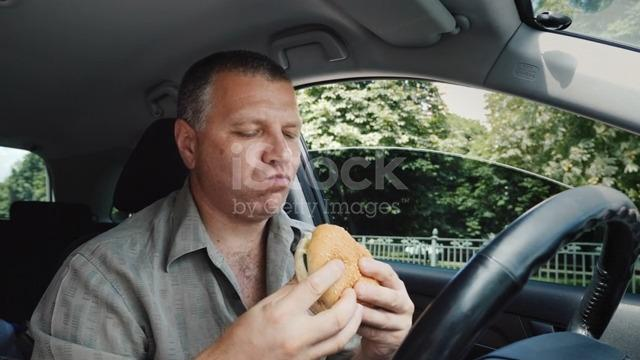Eating: (150, 38, 416, 330)
